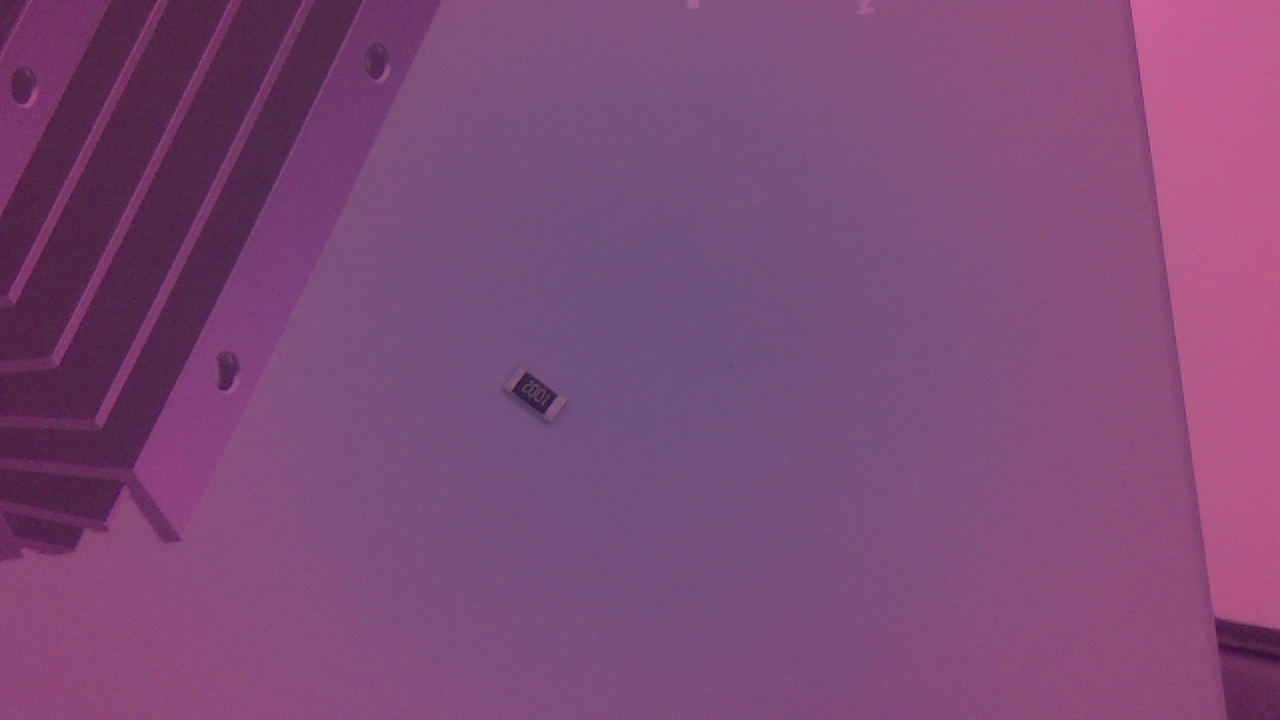Resistor: (504, 362, 577, 436)
